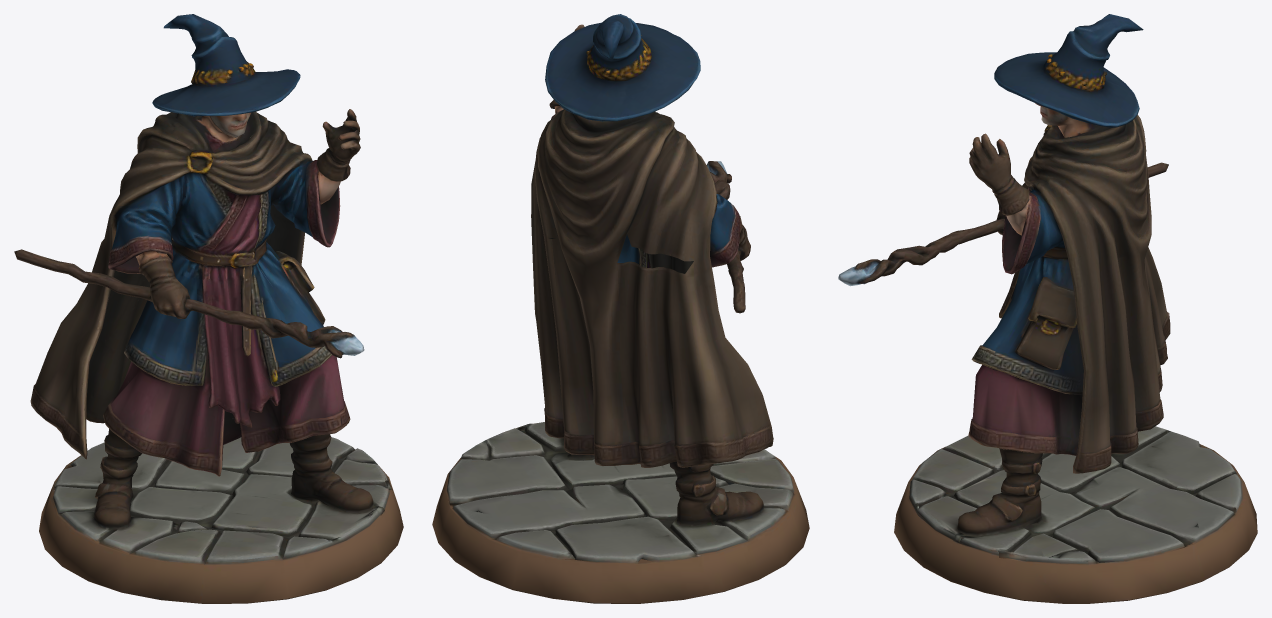
The model's file is mage_def_male.glb.
3 renders of one model, left to right at view 1: azimuth 30°, elevation 25°; view 2: azimuth 150°, elevation 25°; view 3: azimuth 270°, elevation 25°, orthographic. The views are drawn at different scales.
Parts seen in each view (by area): view 1: tripo_node_b0308e1a-2a85-405d-baa4-ce715960fea4; view 2: tripo_node_b0308e1a-2a85-405d-baa4-ce715960fea4; view 3: tripo_node_b0308e1a-2a85-405d-baa4-ce715960fea4.
Part boxes in pixels (x1,y1,x2,y2): tripo_node_b0308e1a-2a85-405d-baa4-ce715960fea4: (14,14,403,603); tripo_node_b0308e1a-2a85-405d-baa4-ce715960fea4: (432,14,809,603); tripo_node_b0308e1a-2a85-405d-baa4-ce715960fea4: (838,14,1257,603).
Size of the model in its own units: 0.6693 by 1 by 0.7515.
1 material, 1 textured.
